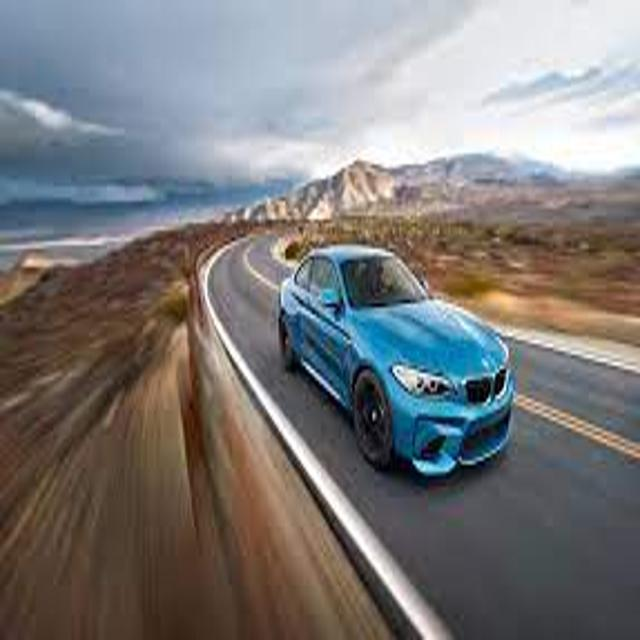car: (277, 246, 514, 478)
